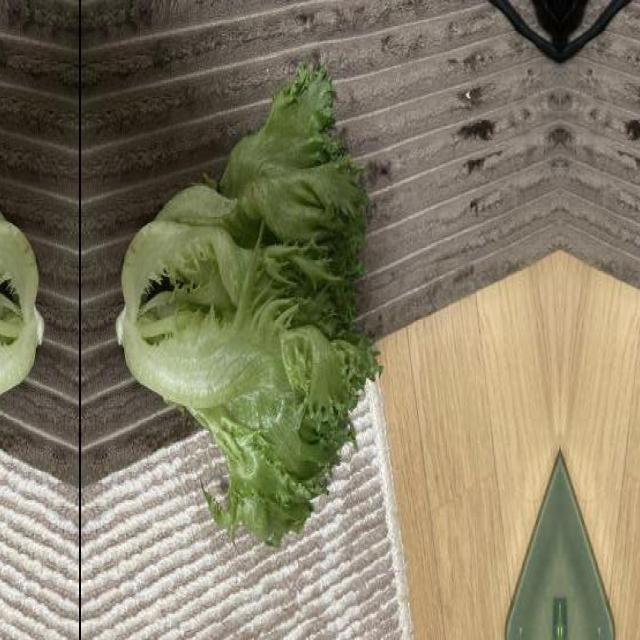healthy: (116, 57, 386, 549), (0, 57, 44, 549)
